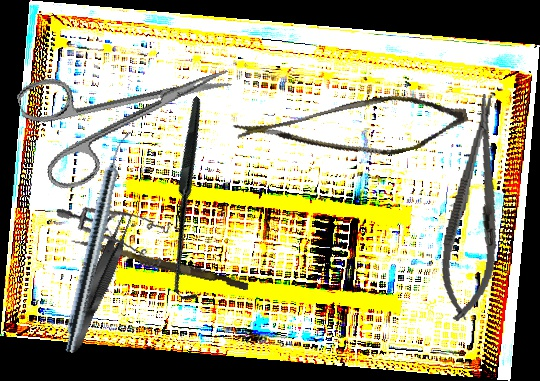Handpiece: (61, 128, 133, 355)
Hook Surgical: (87, 95, 298, 306)
Iris Scissors: (14, 26, 247, 197)
Micro Scissor: (230, 66, 473, 194)
Needle Holder: (434, 91, 516, 325)
Pusher: (68, 237, 251, 291)
Speculum: (55, 190, 178, 282)
Tissue Forceps: (62, 209, 138, 356)
